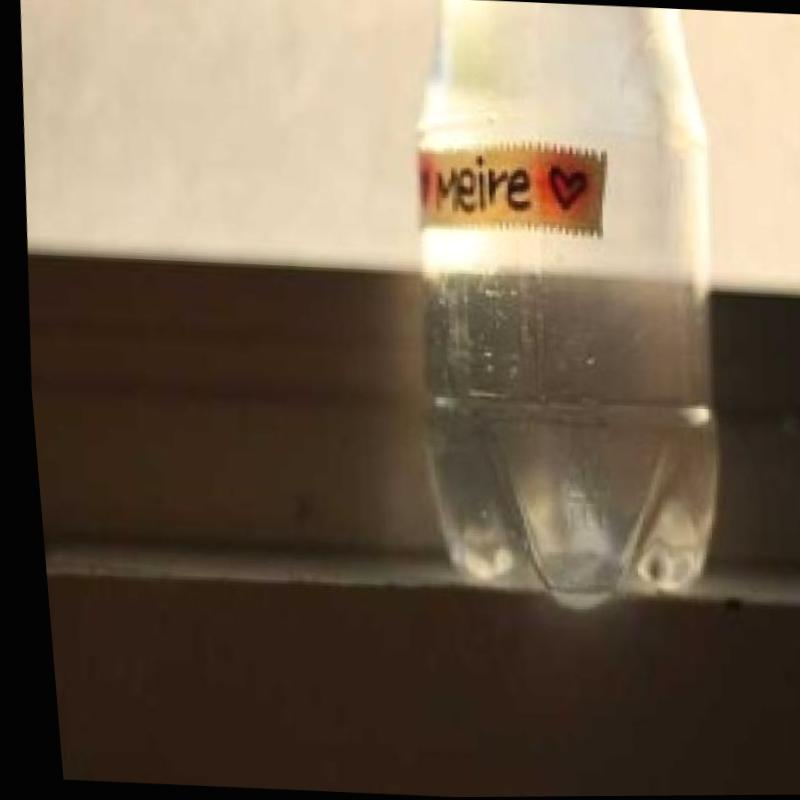botella: (376, 0, 752, 624)
